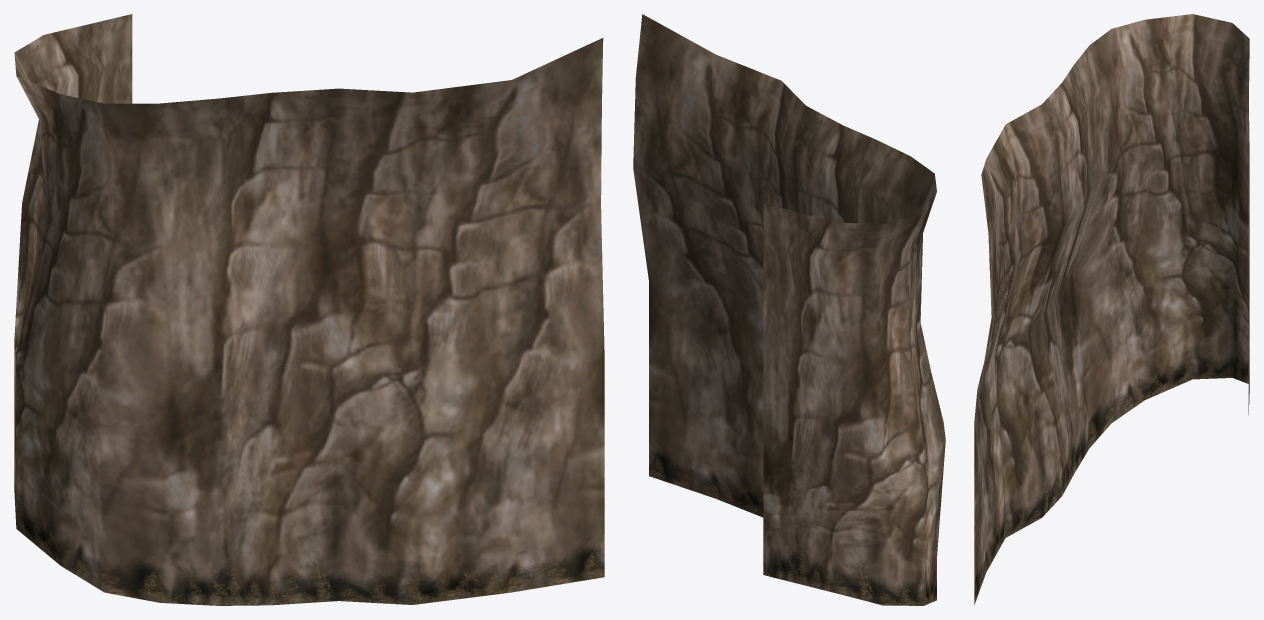
The model's file is OVERHILL_A_01_OBJECT03.fbx.
3 views of the same model, side by side, from view 1: azimuth 30°, elevation 25°; view 2: azimuth 150°, elevation 25°; view 3: azimuth 270°, elevation 25° (orthographic). The views are drawn at different scales.
Parts seen in each view (by area): view 1: OVERHILL_A_01_OBJECT03; view 2: OVERHILL_A_01_OBJECT03; view 3: OVERHILL_A_01_OBJECT03.
Part boxes in pixels (x1,y1,x2,y2): OVERHILL_A_01_OBJECT03: [14, 14, 604, 605]; OVERHILL_A_01_OBJECT03: [633, 14, 945, 605]; OVERHILL_A_01_OBJECT03: [974, 14, 1249, 604].
Size of the model in its own units: 59308 by 65972 by 38122.
Materials: 2 (2 with a texture image).
